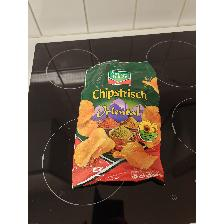Chips: (70, 59, 168, 191)
